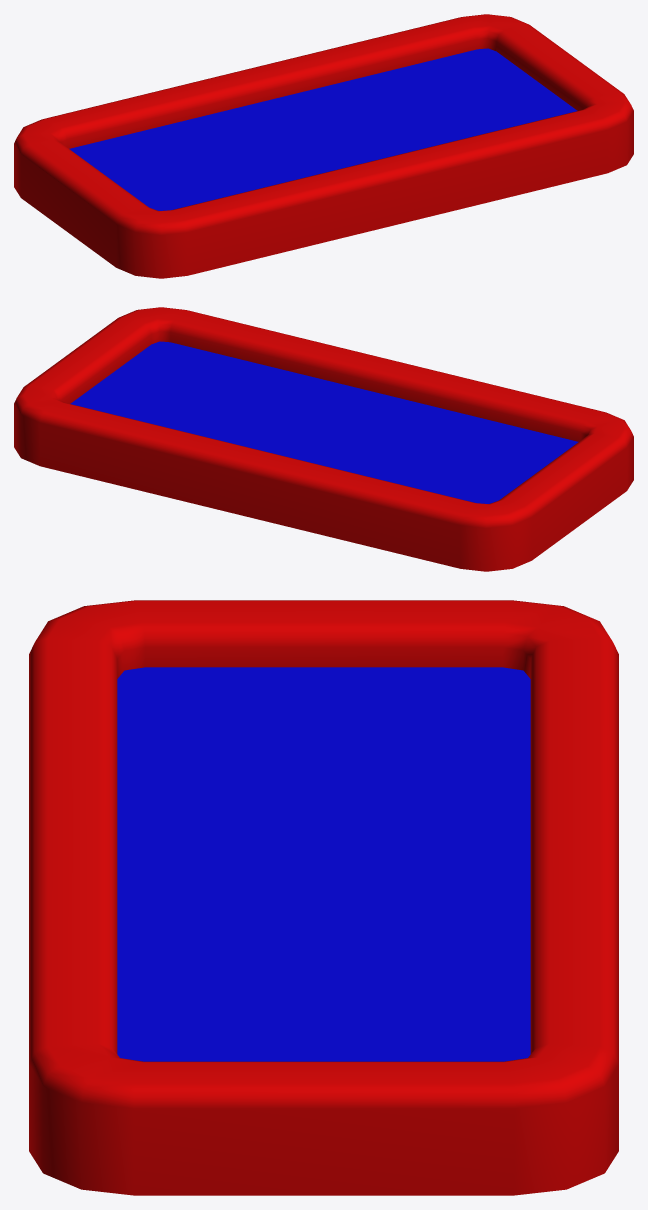
3 views of the same model, one above another, from view 1: azimuth 30°, elevation 25°; view 2: azimuth 150°, elevation 25°; view 3: azimuth 270°, elevation 25° (orthographic). The views are drawn at different scales.
Parts seen in each view (by area): view 1: 1x2; view 2: 1x2; view 3: 1x2.
Part boxes in pixels (x1,y1,x2,y2): 1x2: [14, 14, 633, 278]; 1x2: [14, 307, 633, 571]; 1x2: [29, 600, 618, 1195].
Size of the model in its own units: 400 by 38.86 by 200.
